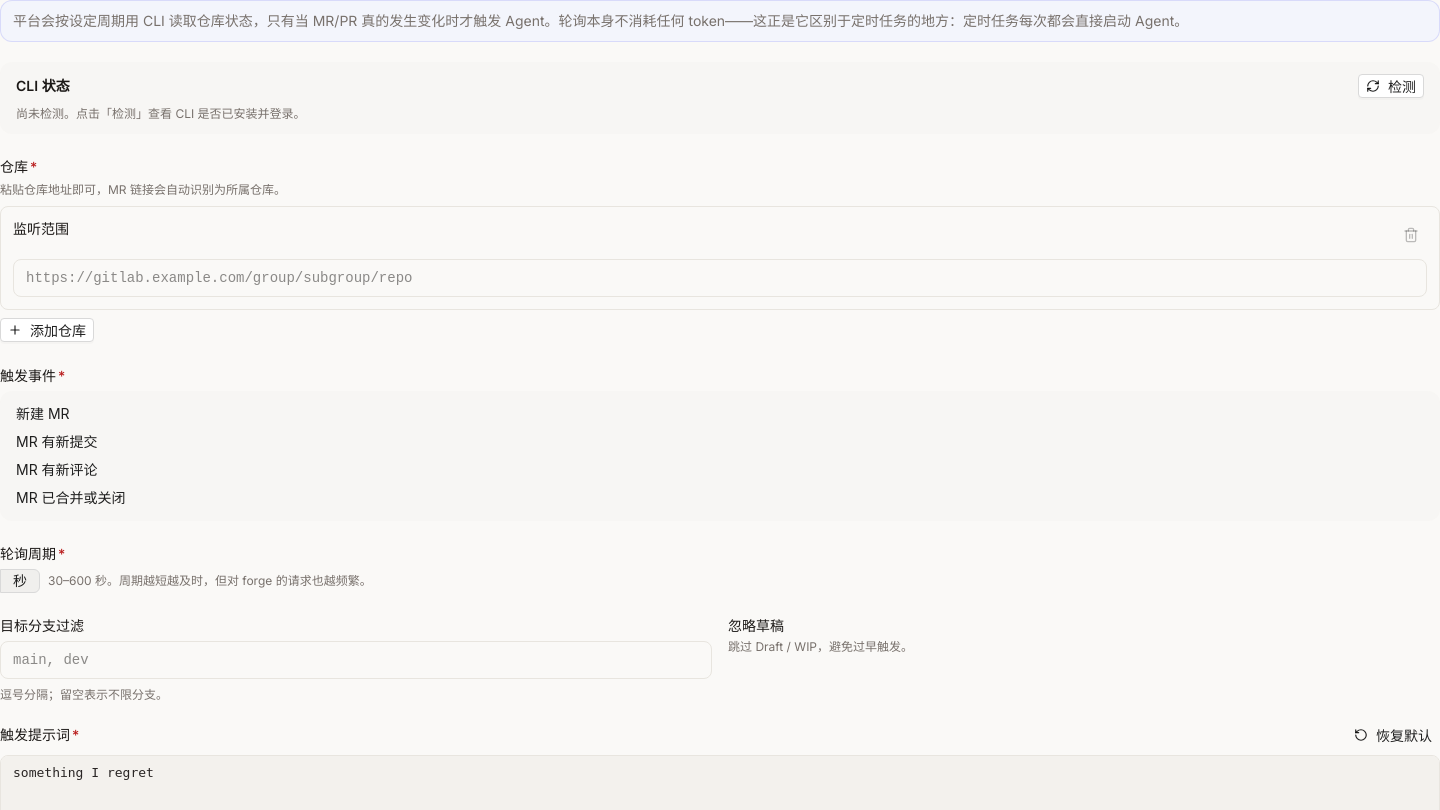
Test case: git trigger intent editor › restores the prefilled template when Reset is clicked
Click the button "恢复默认": (1393, 735) [1346,723,1439,747]
(page scrolled)
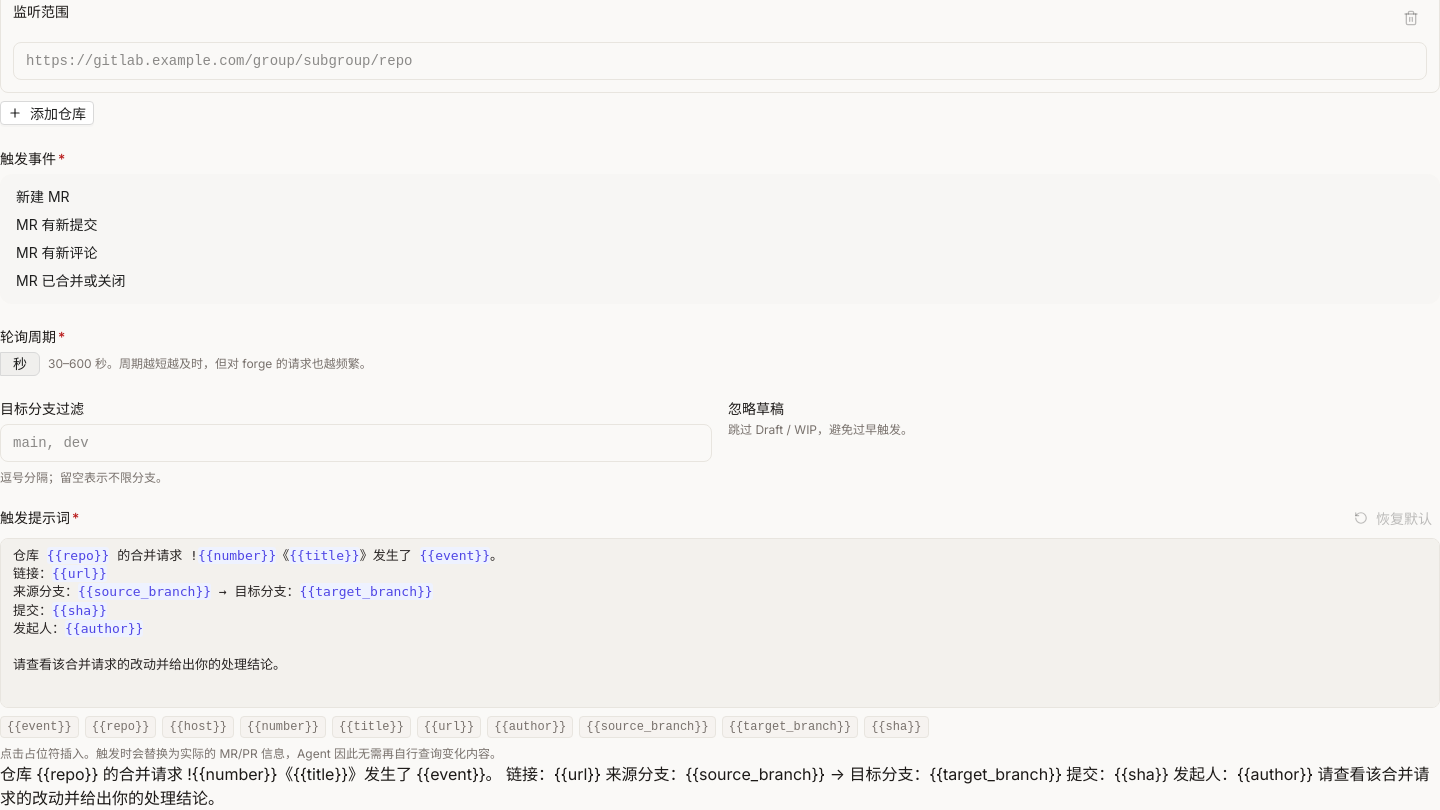
Check: the text with test id "intent-value" shows "{{repo}}", box [0,764,1430,808]
Check: the text with test id "intent-value" shows "{{url}}", box [0,764,1430,808]
